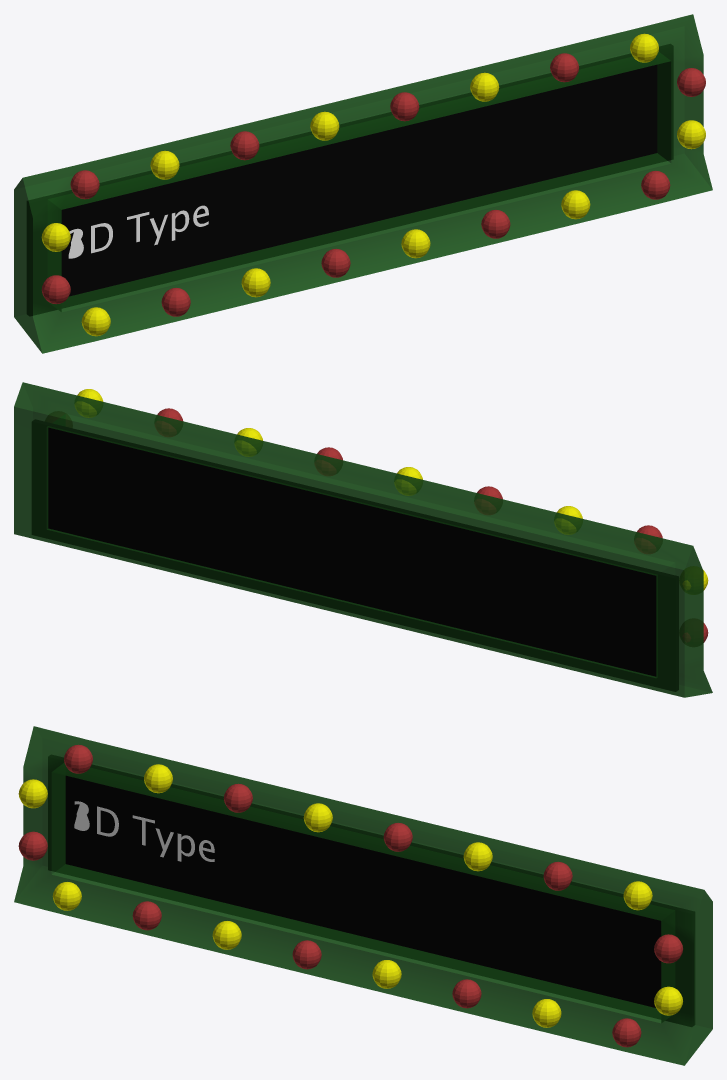
Rendered from Casino sign_text box.fbx.
The picture shows the model from 3 angles, top to bottom: view 1: azimuth 30°, elevation 25°; view 2: azimuth 150°, elevation 25°; view 3: azimuth 330°, elevation 25°; orthographic projection.
Visible parts, largest first — view 1: pasted__pCube1, pasted__polySurface1, pasted__typeMesh2, pSphere15, pSphere1, pSphere11, pSphere7, pSphere4, pSphere8, pSphere10, pSphere17, pSphere3 (+11 smaller); view 2: pasted__pCube1, pasted__polySurface1; view 3: pasted__pCube1, pasted__polySurface1, pasted__typeMesh2, pSphere18, pSphere2, pSphere6, pSphere17, pSphere13, pSphere7, pSphere5, pSphere4, pSphere8 (+11 smaller).
Boxes of the visible parts, x1,y1,x2,y2 form: pasted__pCube1: (27,44,673,315); pasted__polySurface1: (14,14,712,353); pasted__typeMesh2: (68,205,208,258); pSphere15: (150,150,179,179); pSphere1: (81,307,110,336); pSphere11: (470,72,499,101); pSphere7: (561,190,590,219); pSphere4: (321,248,350,277); pSphere8: (641,170,670,199); pSphere10: (550,53,578,82); pSphere17: (41,275,70,304); pSphere3: (241,268,270,297); pasted__pCube1: (32,419,678,691); pasted__polySurface1: (14,382,712,697); pasted__pCube1: (48,755,694,1026); pasted__polySurface1: (14,726,712,1065); pasted__typeMesh2: (74,801,214,861); pSphere18: (18,779,47,808); pSphere2: (132,901,161,930); pSphere6: (452,979,481,1008); pSphere17: (18,831,47,860); pSphere13: (303,803,332,832); pSphere7: (532,999,561,1027); pSphere5: (372,960,401,988); pSphere4: (292,940,321,969); pSphere8: (612,1018,641,1047).
Bounding box in the file's own units: 0.9322 × 0.215 × 0.0865.
